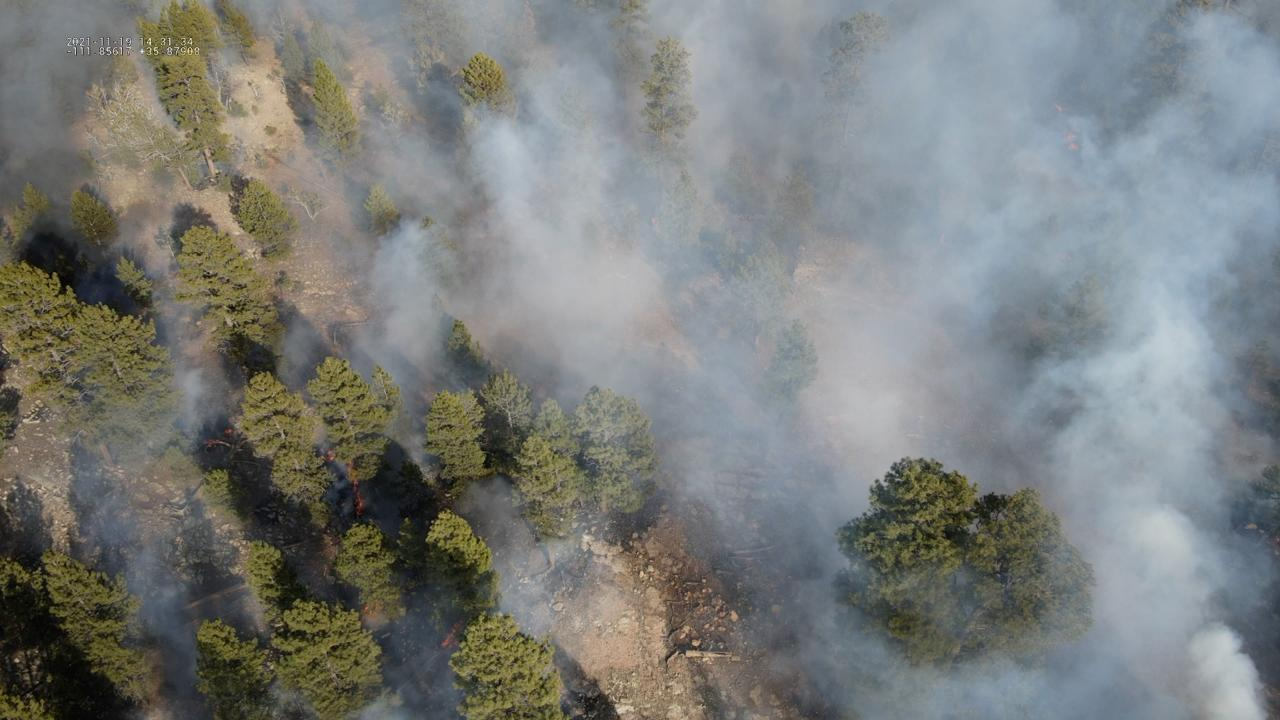fire: (346, 461, 365, 518), (438, 618, 464, 649), (1061, 131, 1082, 155), (323, 448, 337, 464), (205, 438, 218, 448), (223, 428, 234, 436)
smoke: (0, 0, 1280, 720)
